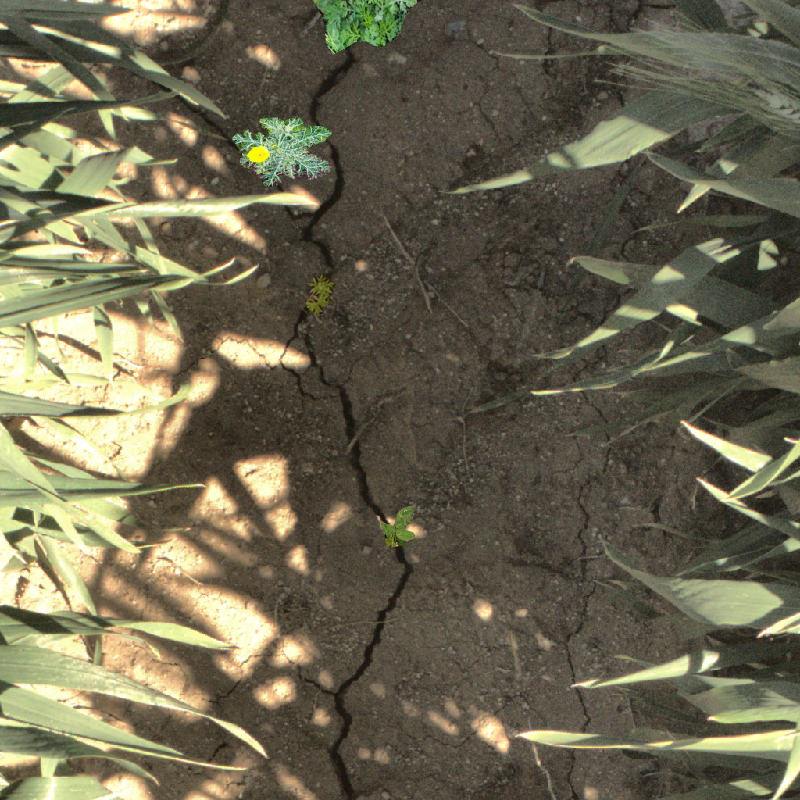spikelet: (742, 78, 800, 129)
weed: (232, 117, 333, 187), (311, 1, 418, 55), (295, 269, 345, 319), (381, 506, 415, 547)
